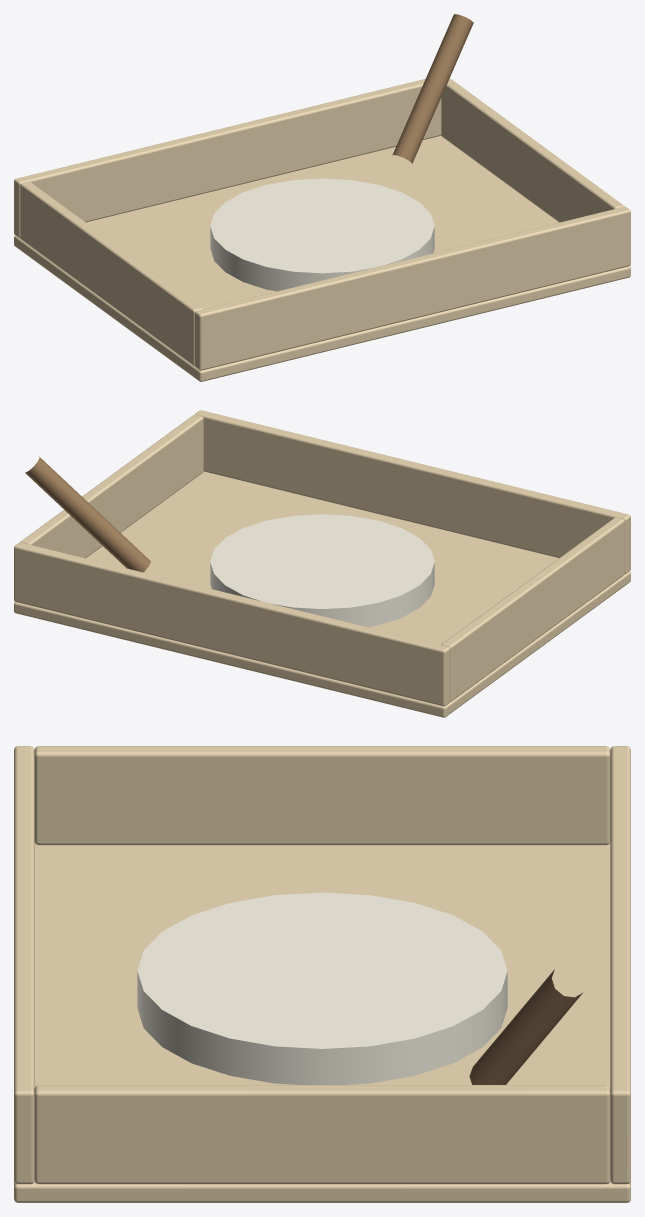
The model's file is marquetry-and-veneer-inlay-workshop-adhesive-spreader--91d63dc4__39116.glb.
3 renders of one model, top to bottom at view 1: azimuth 30°, elevation 25°; view 2: azimuth 150°, elevation 25°; view 3: azimuth 270°, elevation 25°, orthographic. The views are drawn at different scales.
Parts seen in each view (by area): view 1: adhesive-spreader-tray; view 2: adhesive-spreader-tray; view 3: adhesive-spreader-tray.
Boxes of the visible parts, <box> form: adhesive-spreader-tray: <box>14,14,630,381</box>; adhesive-spreader-tray: <box>14,410,630,717</box>; adhesive-spreader-tray: <box>14,746,630,1202</box>.
Bounding box in the file's own units: 0.407 × 0.1263 × 0.3.
